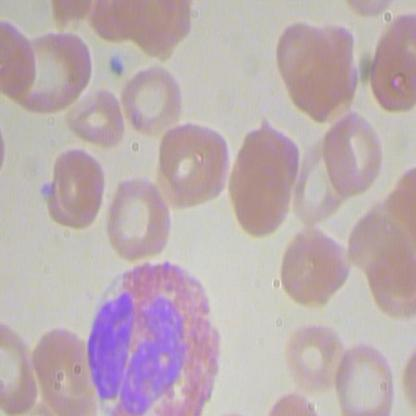Platelets: (106, 49, 127, 77)
RBC: (4, 28, 96, 119), (150, 116, 233, 211), (270, 222, 356, 313), (228, 139, 294, 242), (105, 171, 177, 264), (322, 109, 387, 200), (280, 317, 352, 397), (121, 55, 185, 142), (44, 145, 107, 232), (331, 341, 396, 415), (64, 85, 126, 151)
WBC: (72, 255, 228, 415)
